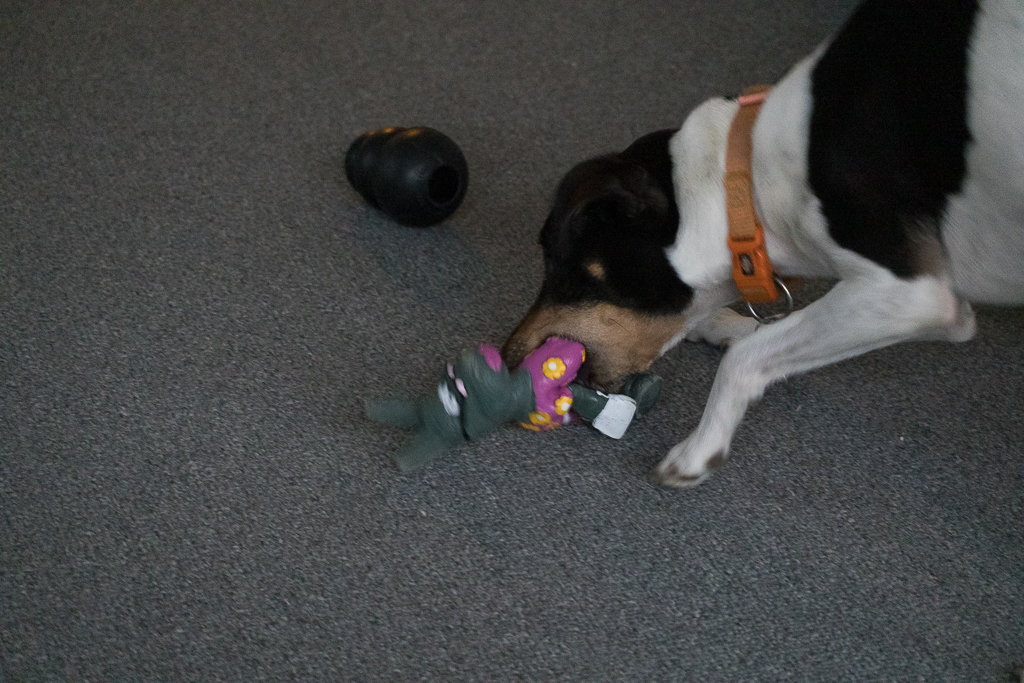Dog: (492, 0, 1024, 499)
Humanoid: (350, 321, 646, 493)
